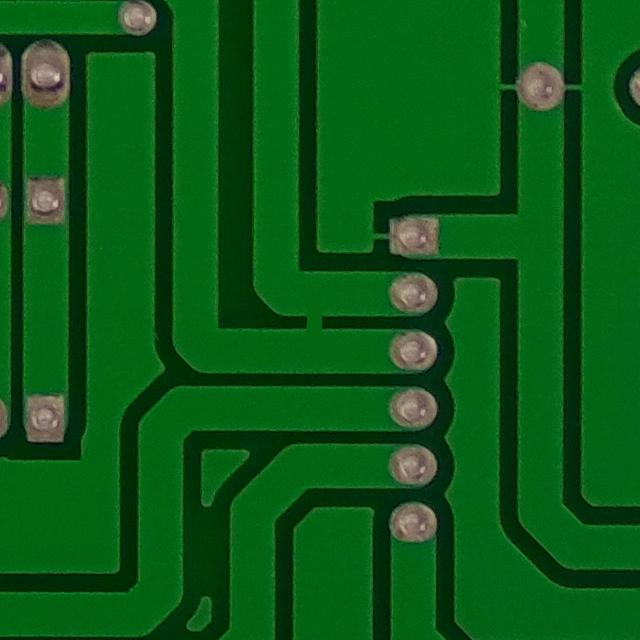short: (278, 271, 363, 369)
